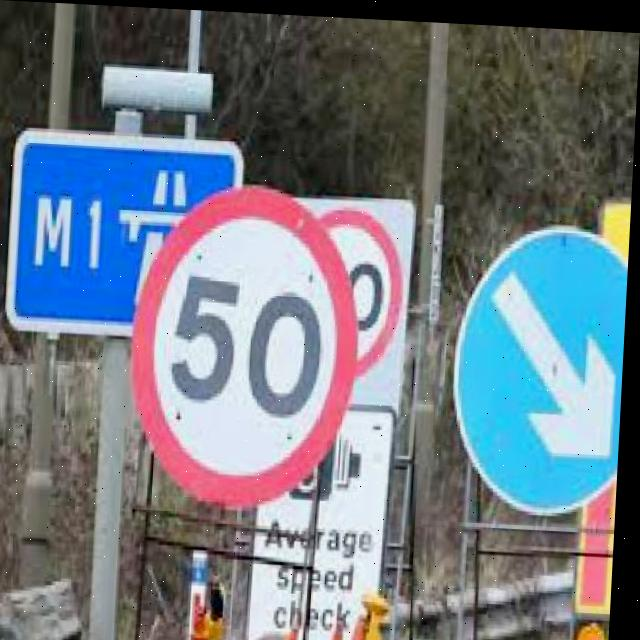Speed limit 50: (125, 174, 370, 515)
